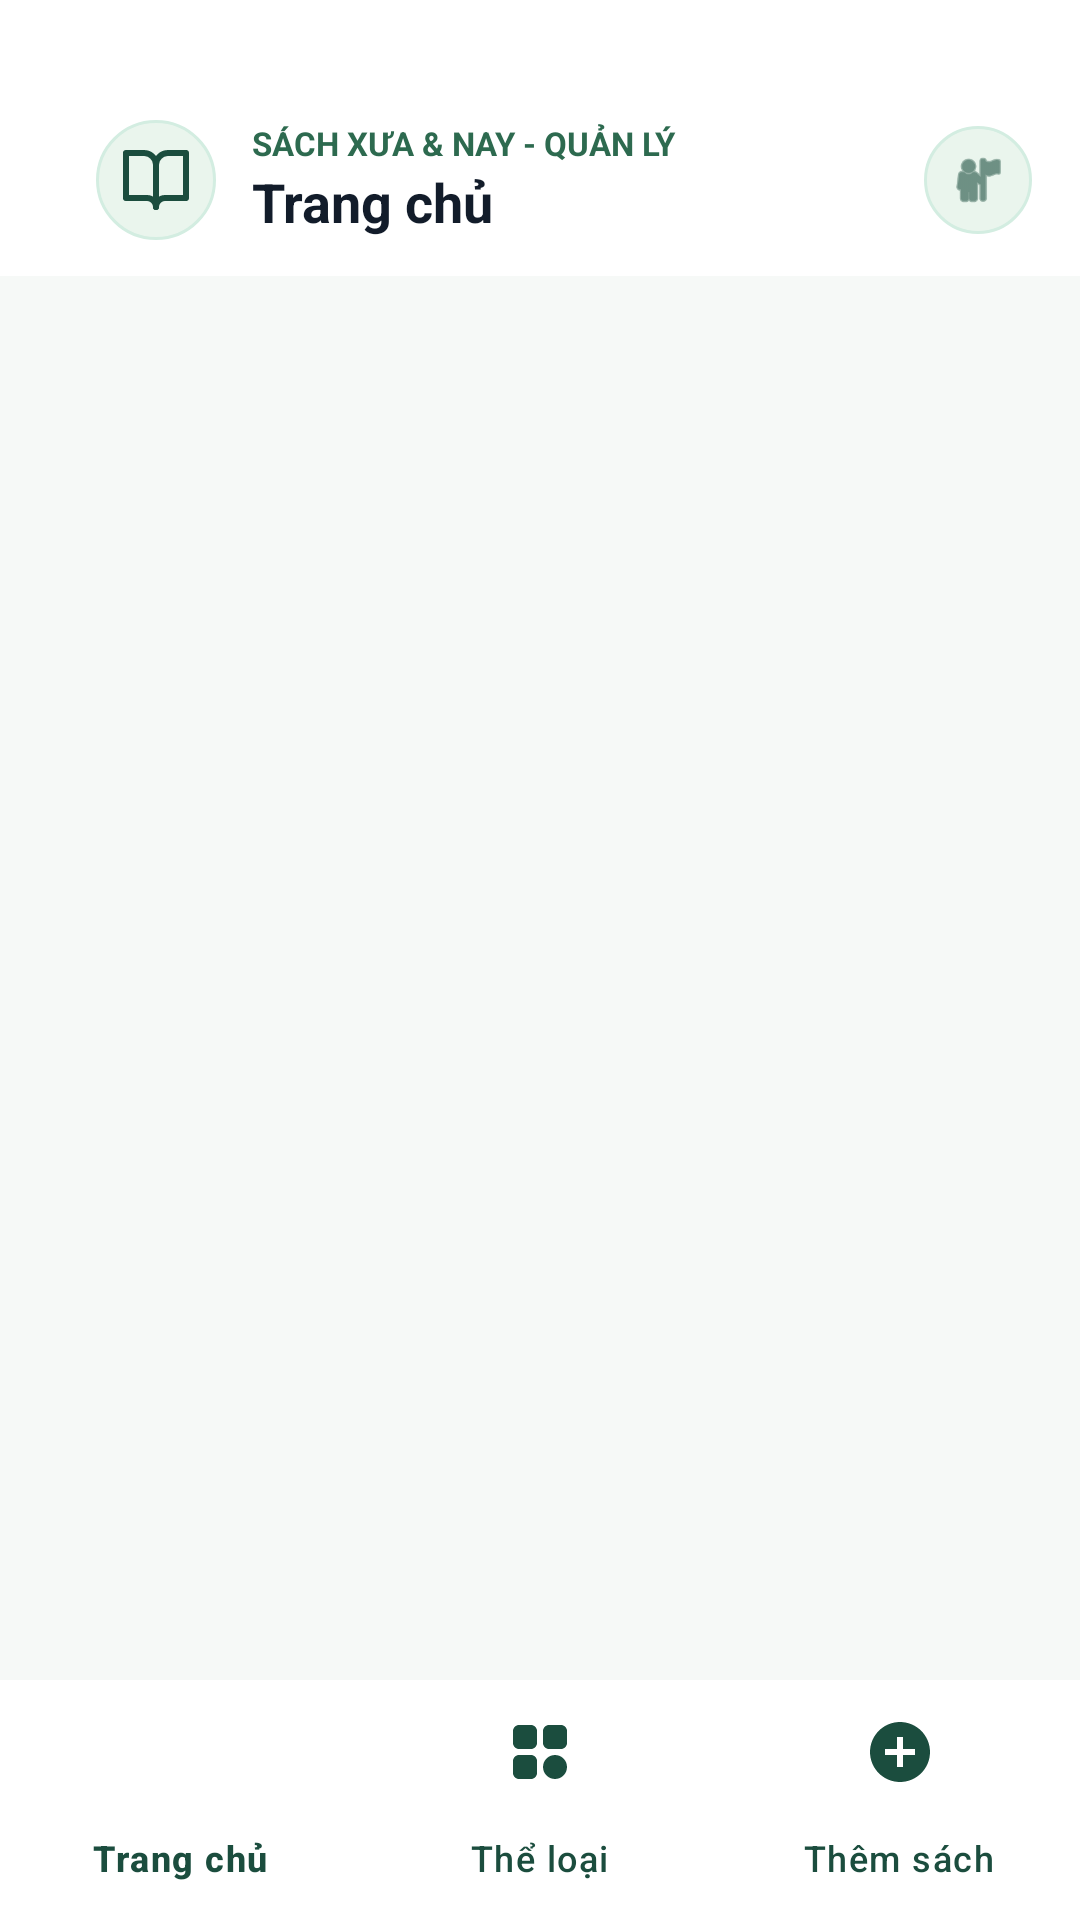

Named icons in this screenshot (1080 x 1920) and their centers, (x,y):
Profile: (978,180)
